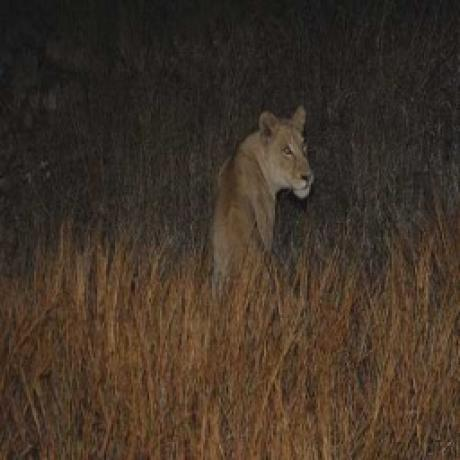Lion: (200, 89, 322, 332)
